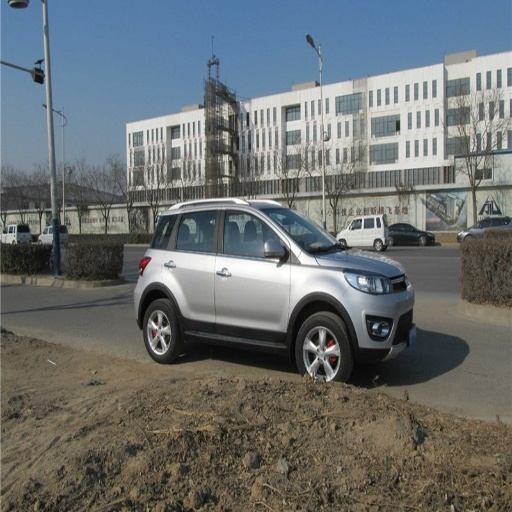front_bumper: (353, 287, 415, 354)
front_right_door: (215, 207, 290, 342)
